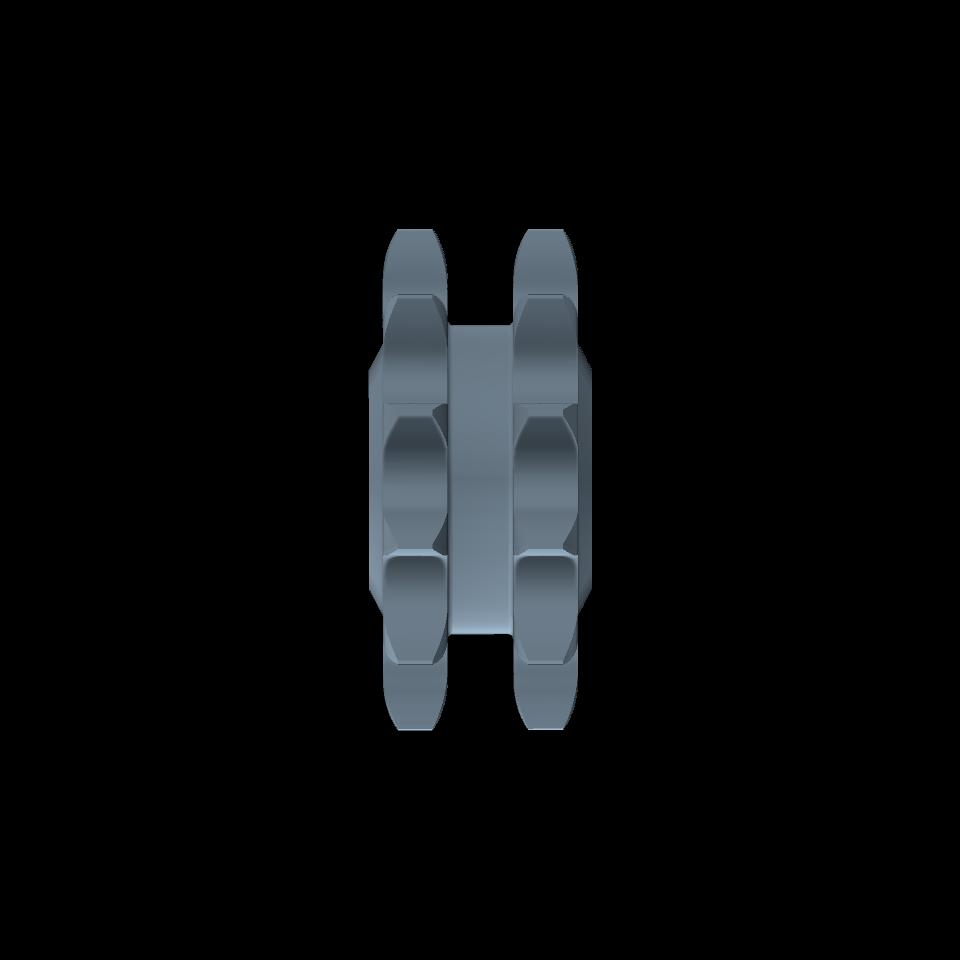Straight: (397, 228, 433, 730), (528, 228, 561, 730)
